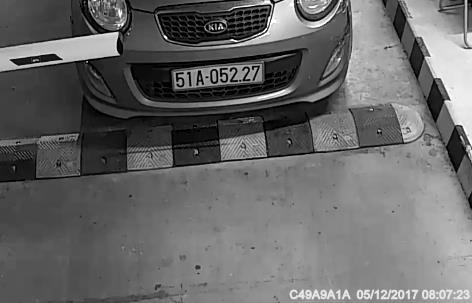License-plate: (167, 63, 267, 96)
